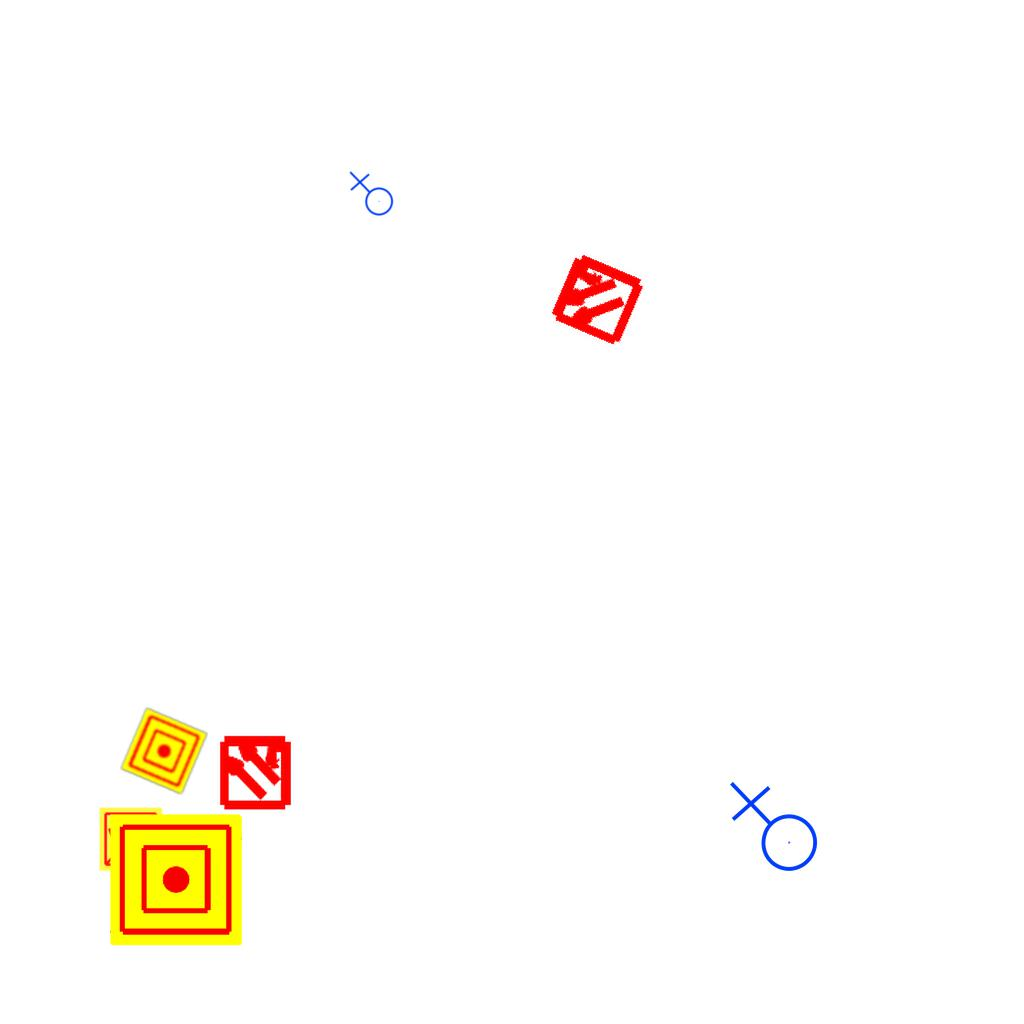Elektroanschluss_allgemein_230V_Geraeteanschlussdose_230V: (725, 781, 819, 880), (347, 171, 394, 220)
NAM-Nichtautomatischer_Melder: (110, 814, 242, 946), (120, 707, 208, 795)
OKW_Multisensormelder_(Kombination_optischer_Rauch-Kahlenmonoxid_Waerme-Melder): (98, 806, 164, 872)
OT_Multisensormelder_(Kombination_RMO_WMD): (521, 224, 670, 373), (199, 714, 312, 827)
